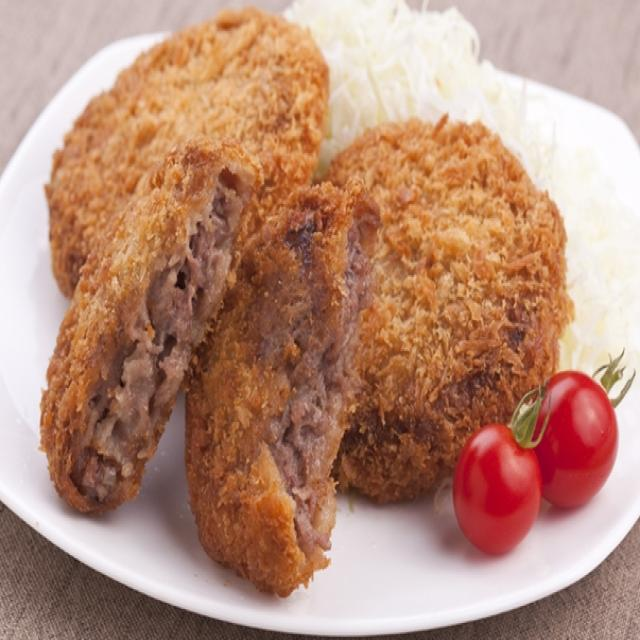炸货点心: (14, 5, 609, 615)
